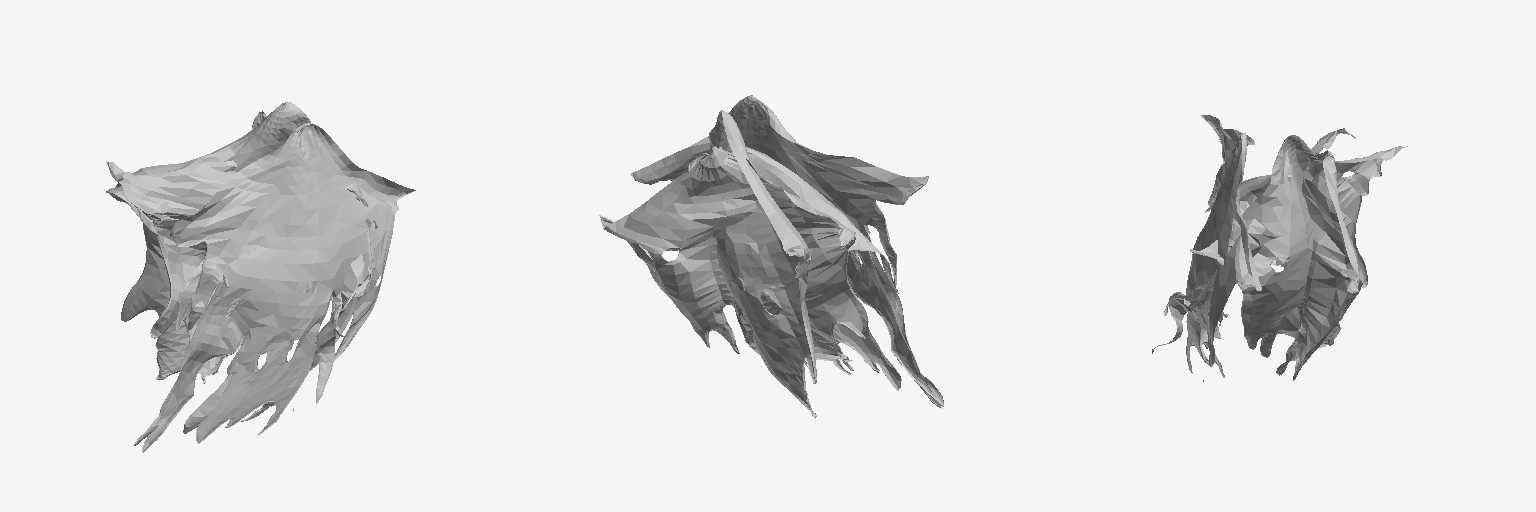
The model's file is Fantasma_deformado.obj.
3 renders of one model, left to right at view 1: azimuth 30°, elevation 25°; view 2: azimuth 150°, elevation 25°; view 3: azimuth 270°, elevation 25°, orthographic.
Parts seen in each view (by area): view 1: Ghost.1; view 2: Ghost.1; view 3: Ghost.1.
Boxes of the visible parts, x1,y1,x2,y2 form: Ghost.1: [106, 102, 415, 452]; Ghost.1: [599, 95, 943, 417]; Ghost.1: [1152, 115, 1407, 381].
Bounding box in the file's own units: 0.1181 × 0.106 × 0.0878.